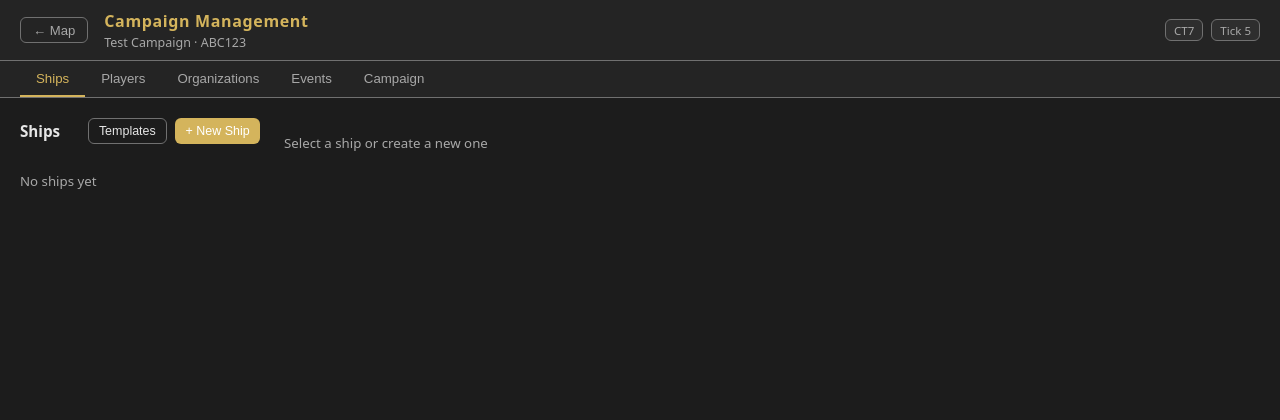
it: RefereeView — Events grid › shows no events before any are assigned
Click the tab with class "rtab" showing "Events". click: (312, 79)
box: [275,61,348,97]
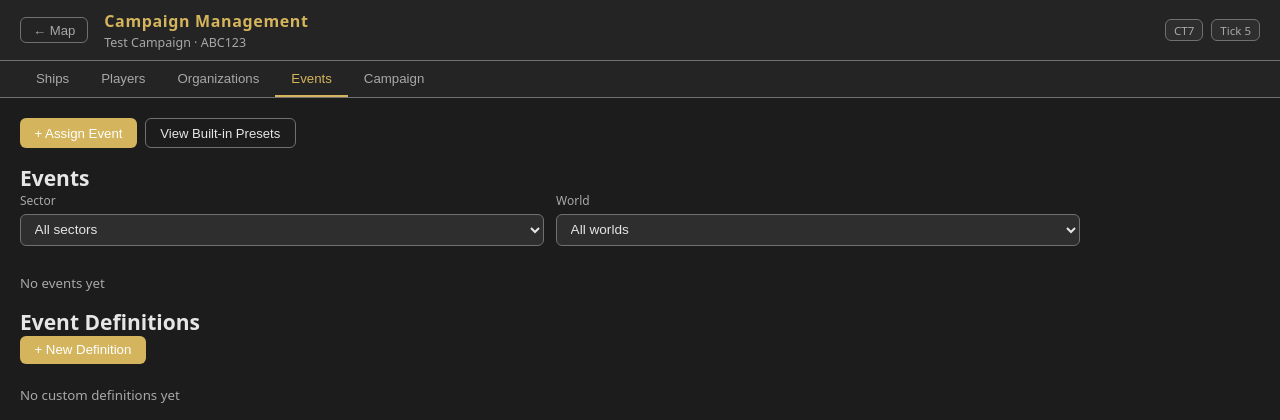
Expected: the text "No events yet" is shown, [20,274,105,292]
